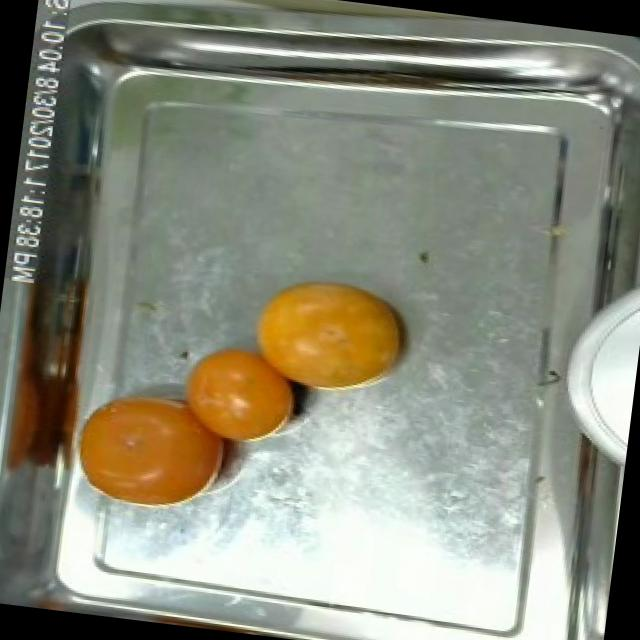Fruit: (63, 371, 244, 520), (235, 263, 422, 405), (165, 329, 317, 457)
